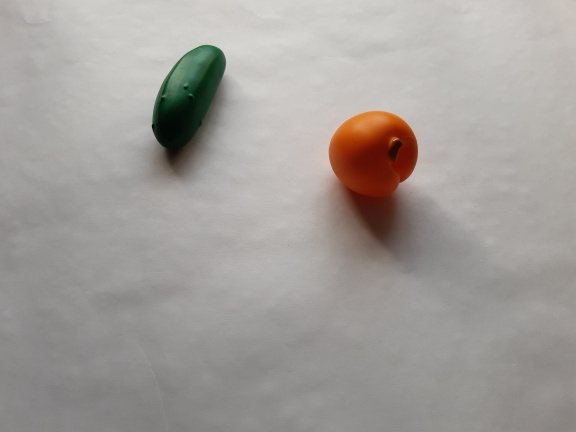apricot: (322, 104, 427, 203)
cucumber: (146, 40, 236, 157)
